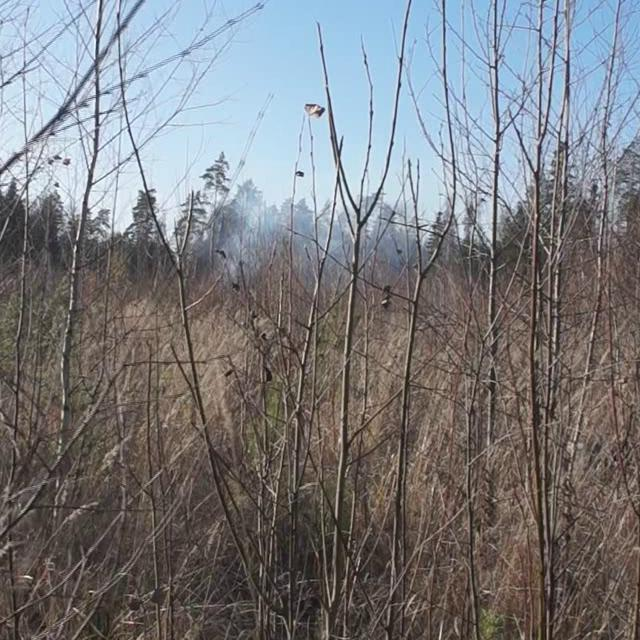Smoke: (221, 191, 423, 289)
